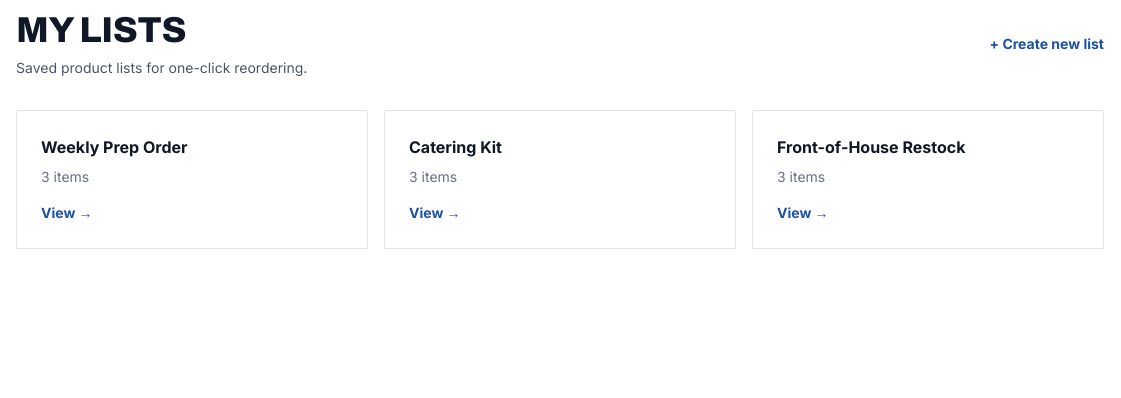
ListsPage › toggles the create form open via '+ Create new list'
The image size is (1121, 398).
Click the button "+ Create new list" at (1047, 44), box [990,34,1104,54]
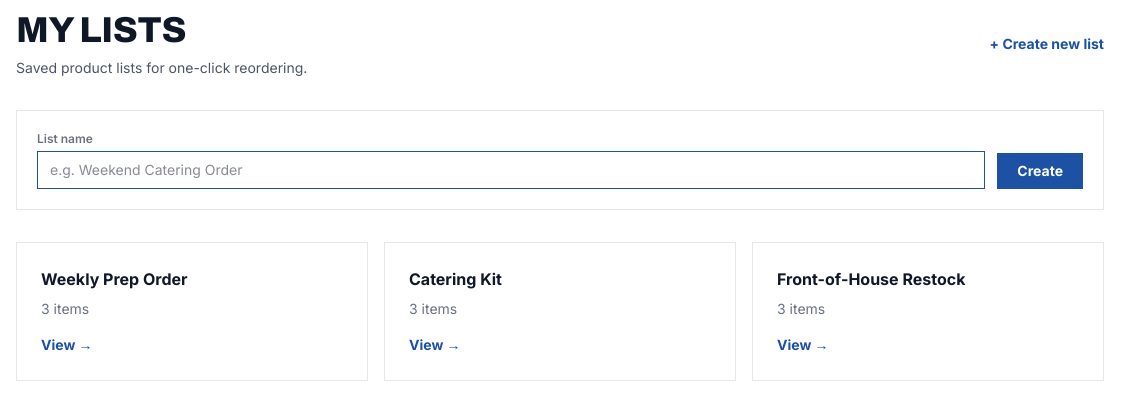
expect the field with placeholder "e.g. Weekend Catering Order" is shown: met, box [37,151,985,189]
